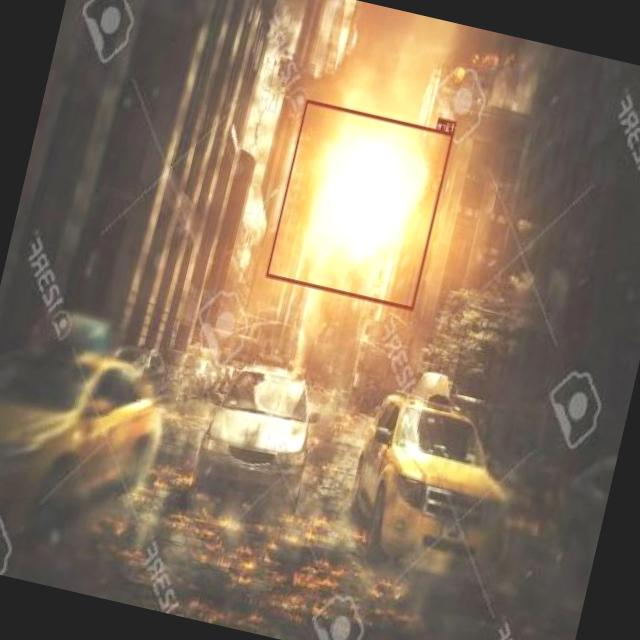fire: (265, 99, 455, 310)
